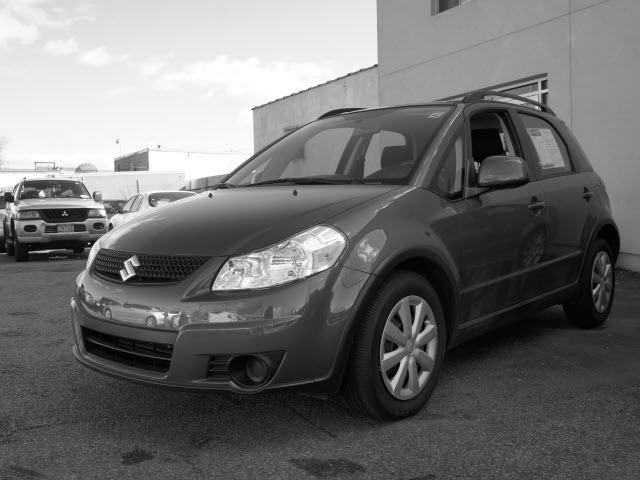car: (72, 91, 619, 425)
